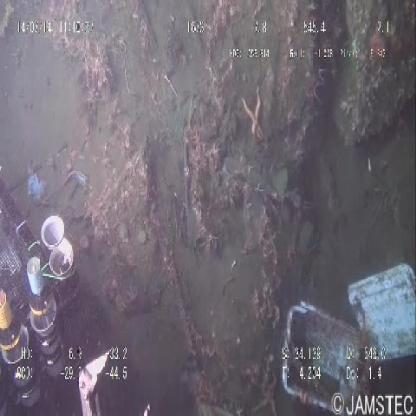Rov: (1, 140, 158, 416)
Rác: (266, 249, 416, 416)
